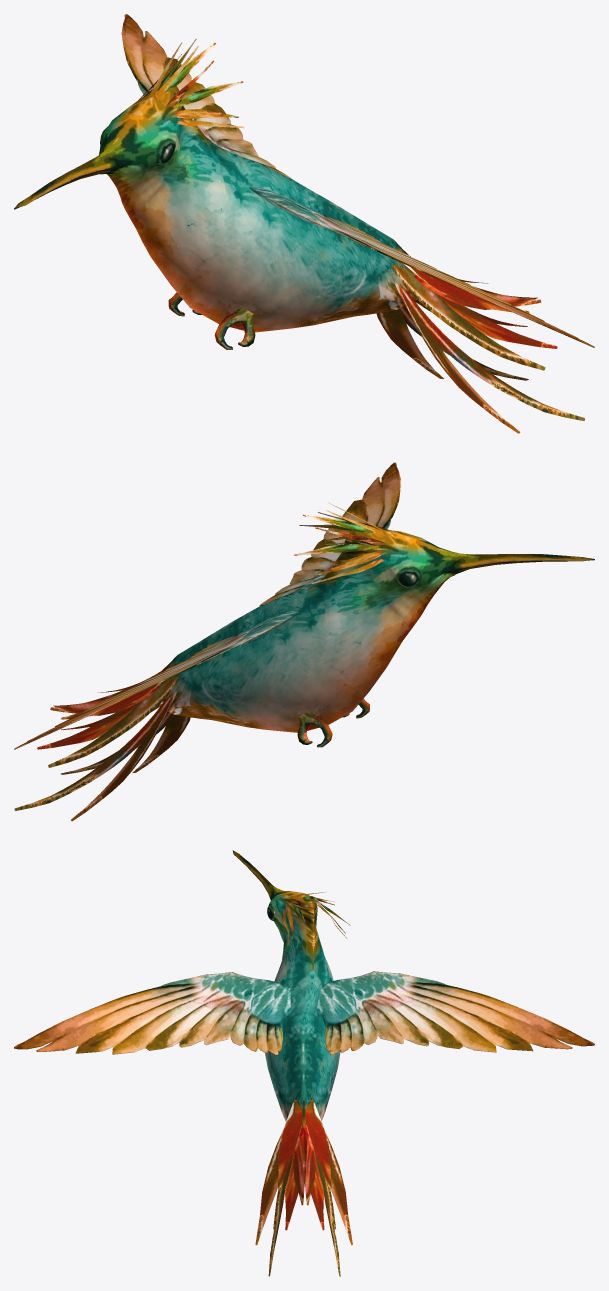
The model's file is Colibri-New33.fbx.
3 views of the same model, one above another, from view 1: azimuth 30°, elevation 25°; view 2: azimuth 150°, elevation 25°; view 3: azimuth 270°, elevation 25° (orthographic). The views are drawn at different scales.
Visible parts, largest first — view 1: Plain_0; view 2: Plain_0; view 3: Plain_0.
Part boxes in pixels (x1=…): Plain_0: x1=14, y1=14, x2=594, y2=433; Plain_0: x1=14, y1=462, x2=594, y2=821; Plain_0: x1=14, y1=850, x2=594, y2=1276.
Size of the model in its own units: 7867 by 5432 by 10377.
1 material, 1 textured.
